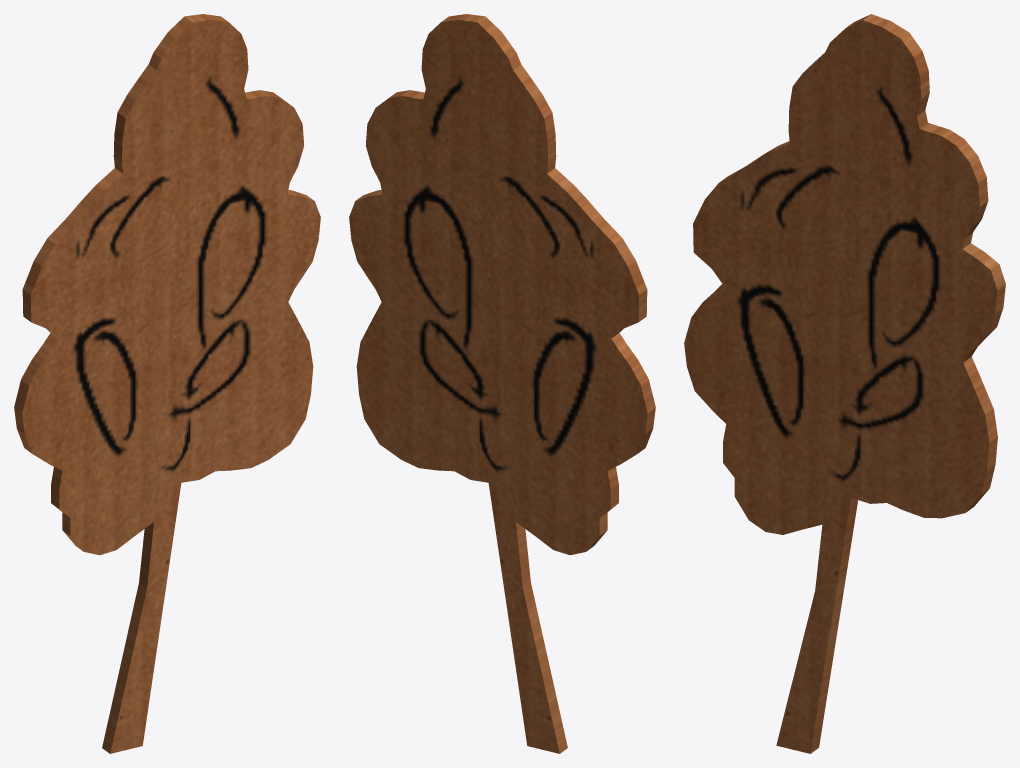
The model's file is tree_4.FBX.
The picture shows the model from 3 angles, left to right: view 1: azimuth 30°, elevation 25°; view 2: azimuth 150°, elevation 25°; view 3: azimuth 330°, elevation 25°; orthographic projection. The views are drawn at different scales.
Visible parts, largest first — view 1: tree_4; view 2: tree_4; view 3: tree_4.
Boxes of the visible parts, left/top/right/bottom form: tree_4: left=14, top=14, right=320, bottom=753; tree_4: left=349, top=14, right=655, bottom=753; tree_4: left=684, top=14, right=1005, bottom=753.
Size of the model in its own units: 148 by 338 by 7.
1 material, 1 textured.
